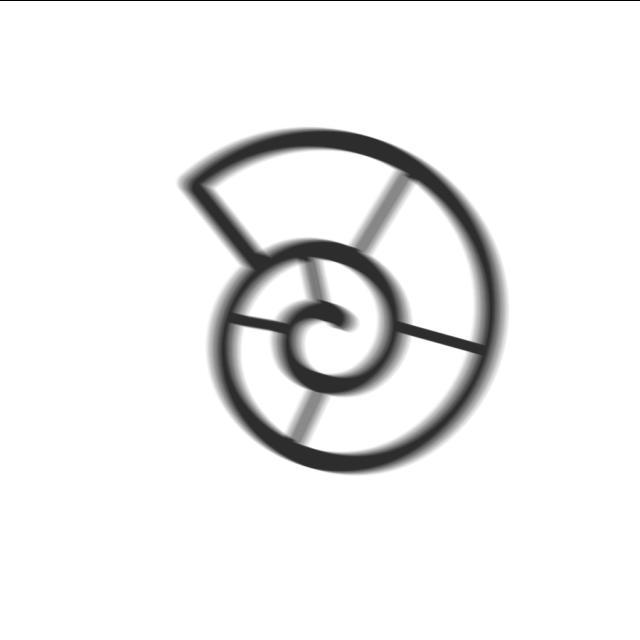fossil: (175, 120, 515, 482)
